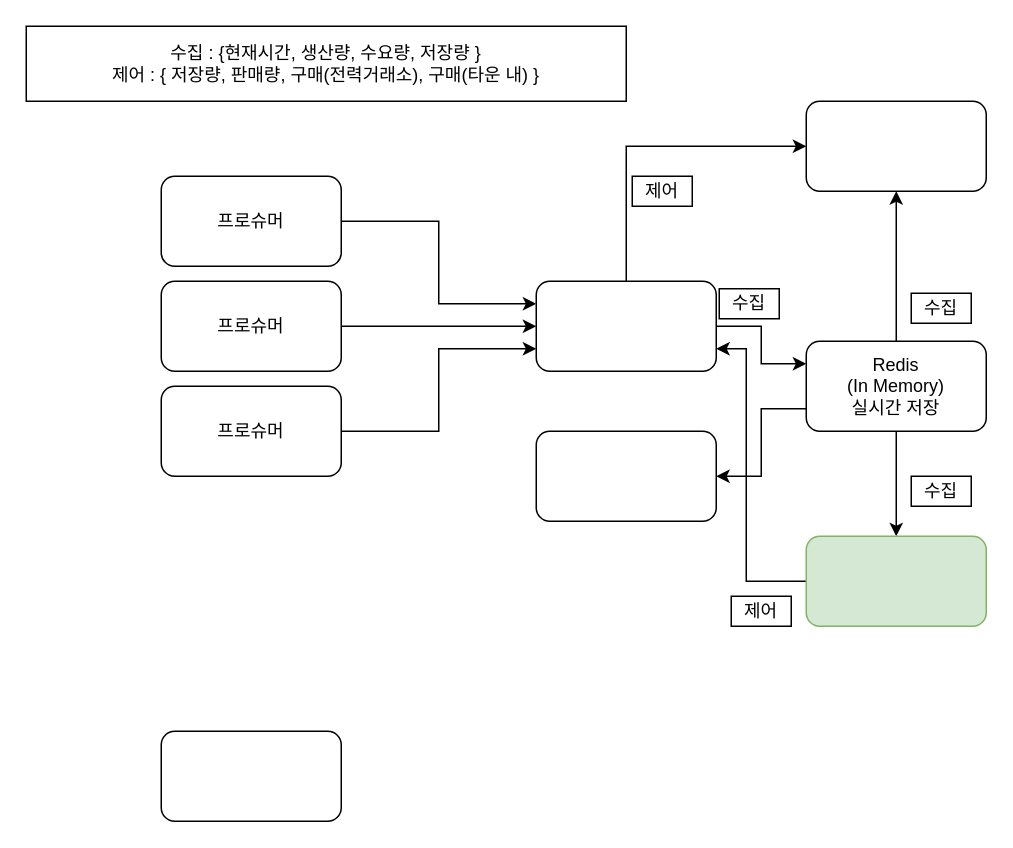
Image size: 1013x848. Some labels were removed from this diagram. Each missing label, with the centre of its shape:
"Object Storage (보조 DB) 일정시간 마다 백업" belongs at point 895,145.
"데이터 실시간 수집/제어 서버" belongs at point 625,325.
"딥러닝 분석 서버 (LSTM + RL)" belongs at point 895,580.
"웹 대시보드 서버" belongs at point 625,475.
"전력 거래소" belongs at point 250,775.
